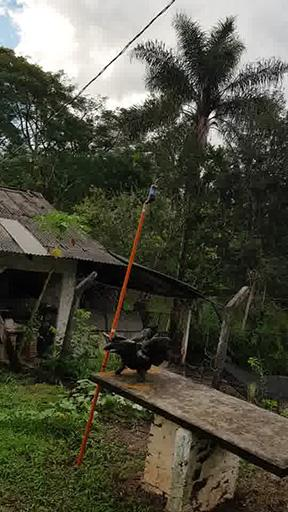Detector_Tensao_Contato: (147, 177, 159, 202)
Vara_Manobra: (76, 204, 147, 465)
